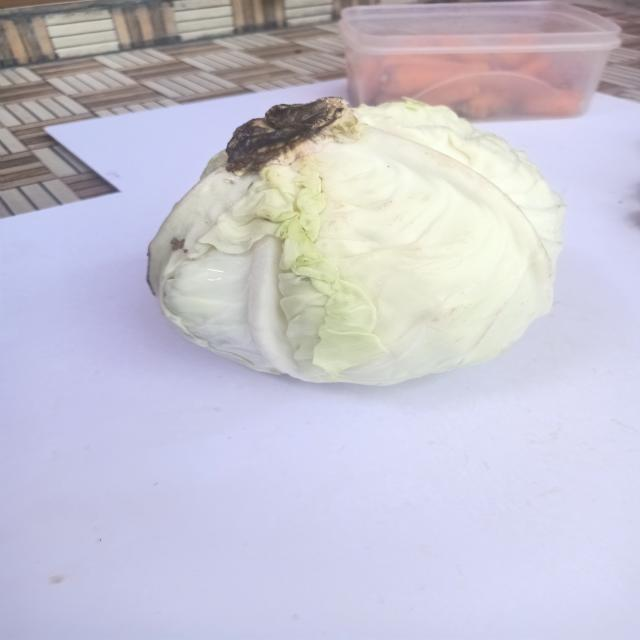Cabbage: (147, 97, 564, 385)
